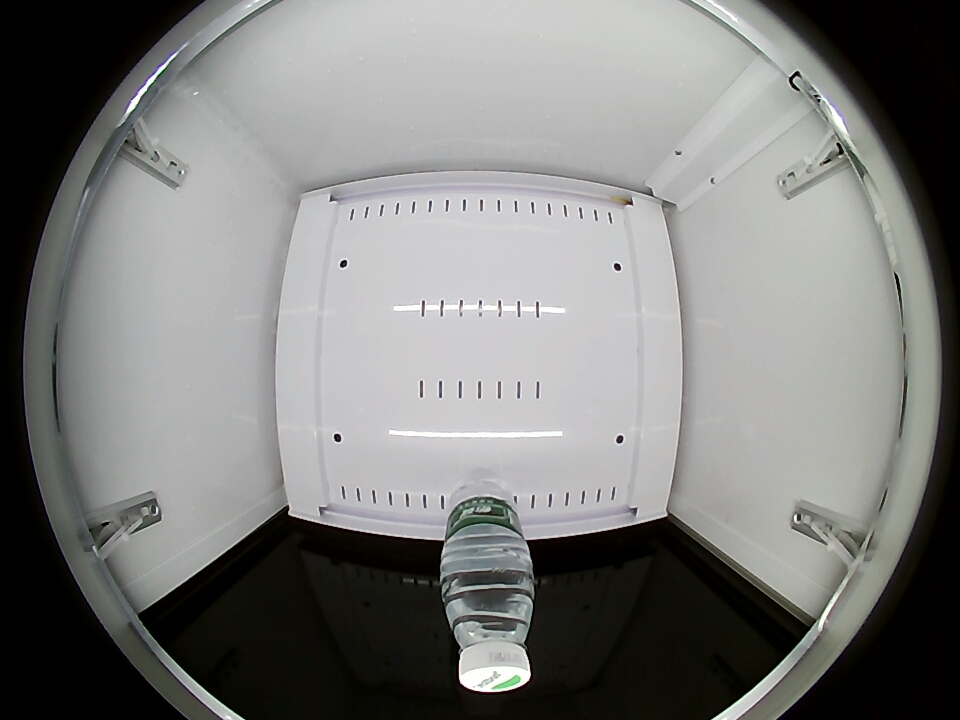yibao: (442, 571, 536, 693)
